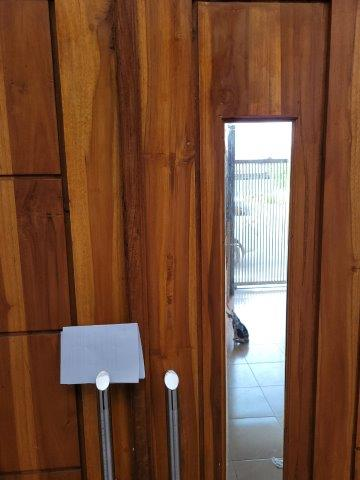kertas: (62, 322, 146, 384)
